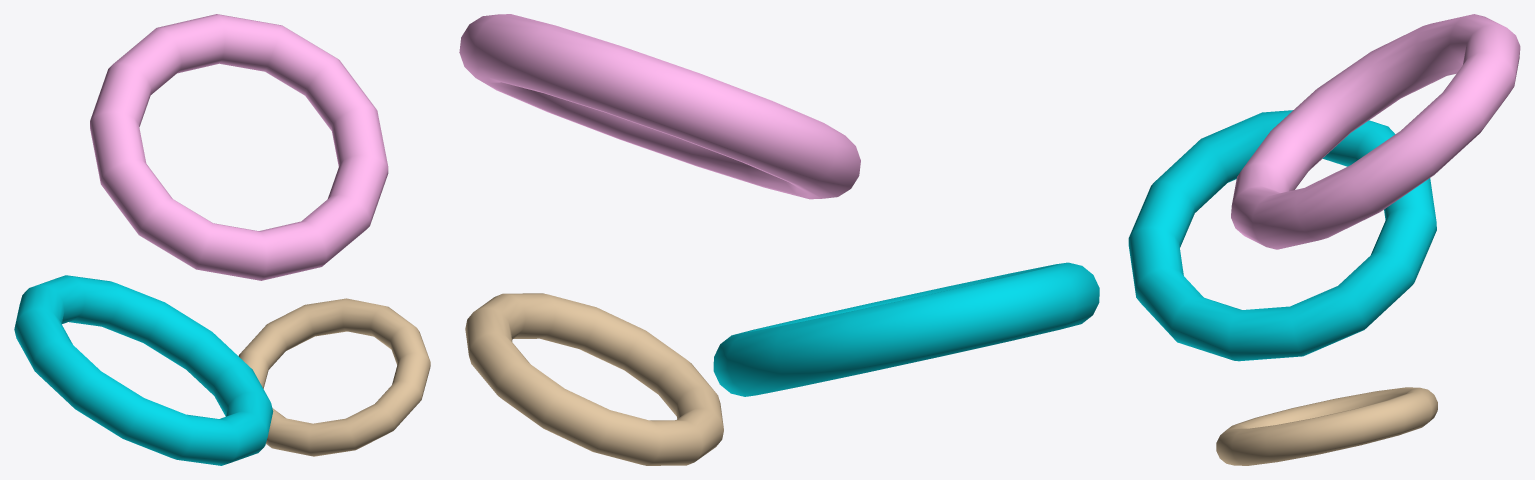
File: argolas.fbx
3 renders of one model, left to right at view 1: azimuth 30°, elevation 25°; view 2: azimuth 150°, elevation 25°; view 3: azimuth 270°, elevation 25°, orthographic. The views are drawn at different scales.
Parts seen in each view (by area): view 1: pTorus3, pTorus1, pTorus2; view 2: pTorus3, pTorus1, pTorus2; view 3: pTorus3, pTorus1, pTorus2.
Boxes of the visible parts, x1,y1,x2,y2 form: pTorus3: (90,14,388,280); pTorus1: (14,275,273,465); pTorus2: (238,298,430,456); pTorus3: (459,14,860,199); pTorus1: (713,262,1099,396); pTorus2: (465,293,723,465); pTorus3: (1231,14,1520,249); pTorus1: (1128,110,1436,361); pTorus2: (1216,387,1437,465).
Size of the model in its own units: 16.9 by 14.42 by 12.68.
